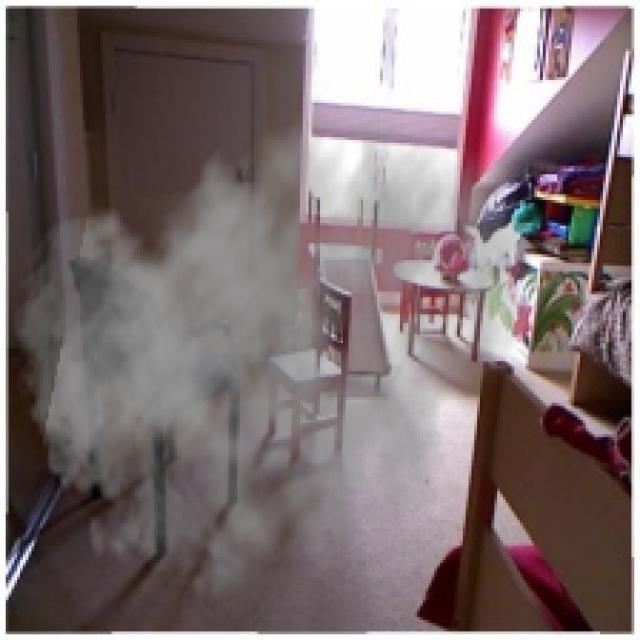smoke: (6, 74, 534, 620)
